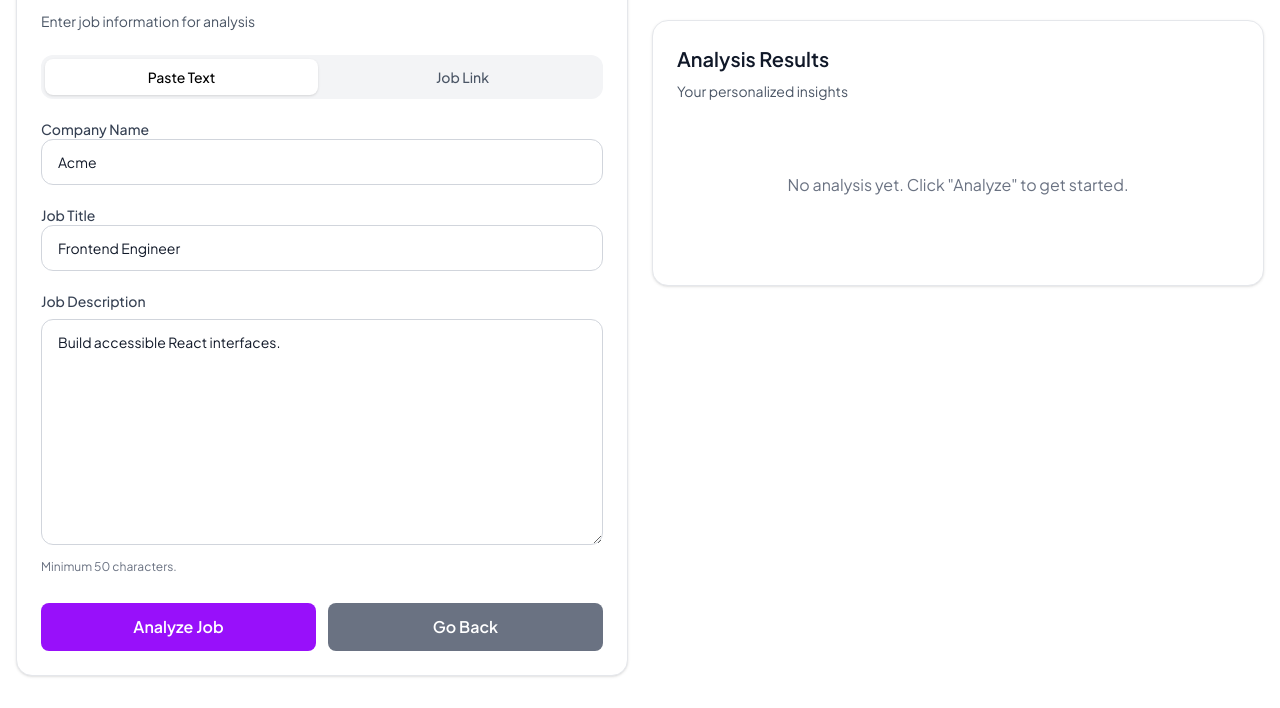
Test: JobAnalysisLayout › enables analyze mode for a saved job without existing analysis
(page scrolled)
Click the button with aria-label "Analyze job description". click: [178, 627]
box: [41,603,316,651]
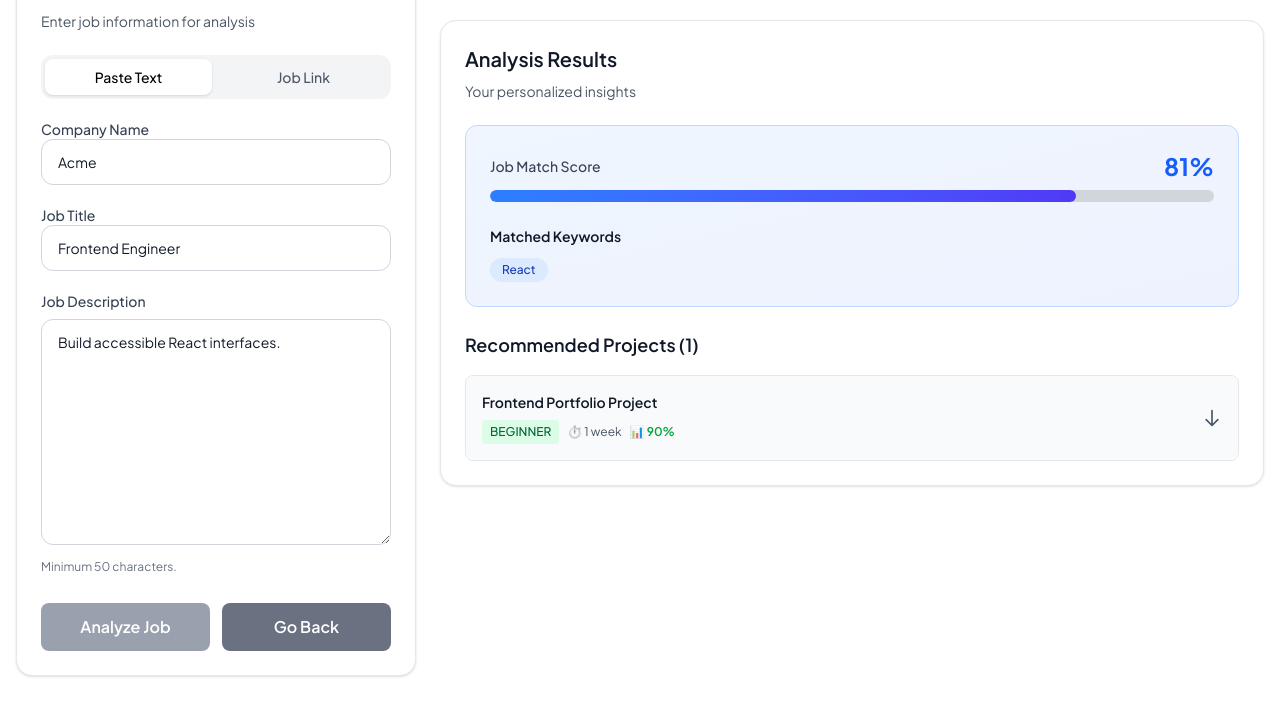
Expected: the text "81%" is shown, [1164,150,1214,182]
